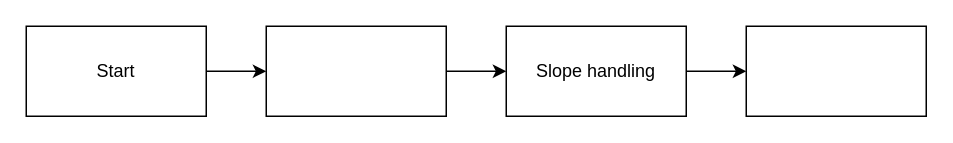
Image size: 953x143. Some labels were removed from this diagram. Each missing label, with the centre of its shape:
"Jumping" belongs at (835,70).
"Movement horizontal" belongs at (355,70).
